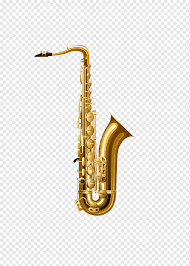Saxophone: (15, 30, 163, 251)
